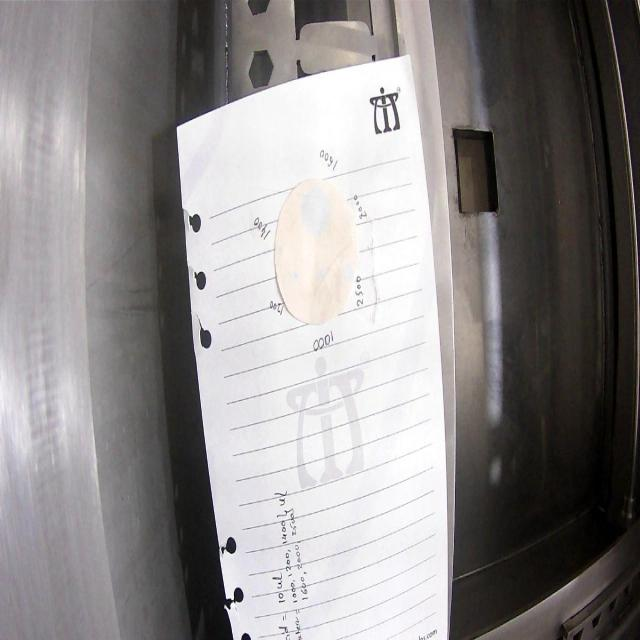BlueColor: (302, 183, 330, 237), (341, 260, 354, 282), (316, 268, 326, 282), (276, 244, 286, 256), (290, 272, 299, 282)
